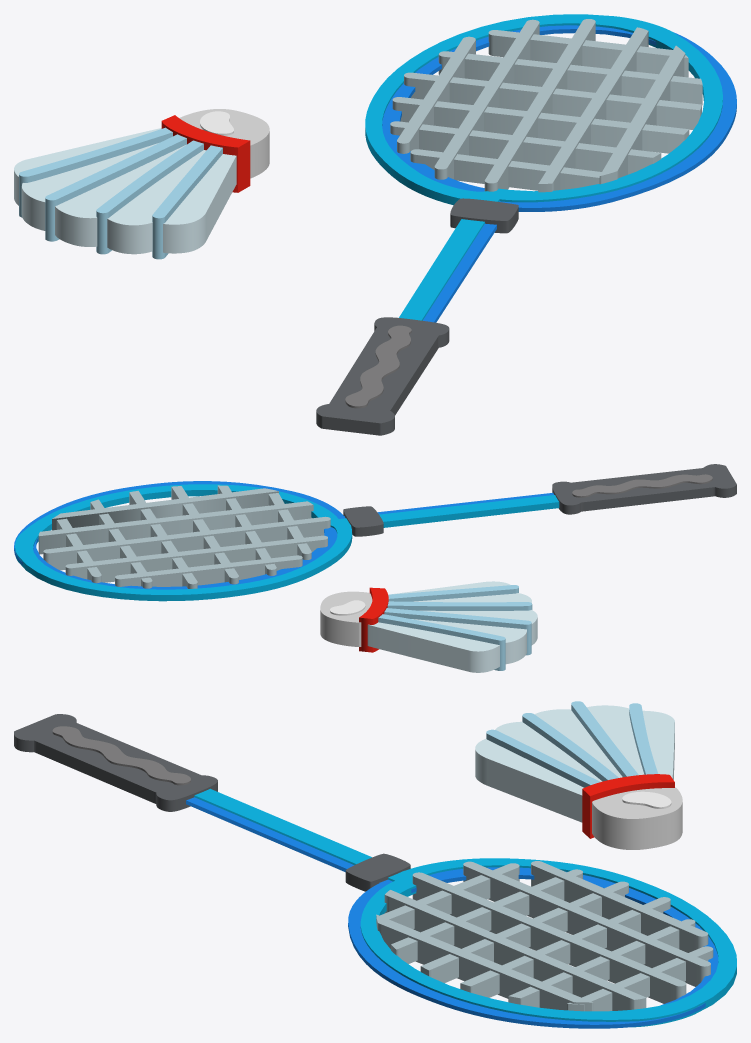
The model's file is emoji_u1f3f8.glb.
3 views of the same model, one above another, from view 1: azimuth 30°, elevation 25°; view 2: azimuth 150°, elevation 25°; view 3: azimuth 270°, elevation 25° (orthographic). The views are drawn at different scales.
Visible parts, largest first — view 1: emoji_u1f3f8; view 2: emoji_u1f3f8; view 3: emoji_u1f3f8.
Boxes of the visible parts, box(x1,y1,x2,y2) form: emoji_u1f3f8: box(14, 14, 736, 435); emoji_u1f3f8: box(14, 464, 736, 672); emoji_u1f3f8: box(14, 701, 736, 1028).
Size of the model in its own units: 0.034 by 0.0022 by 0.0337.
